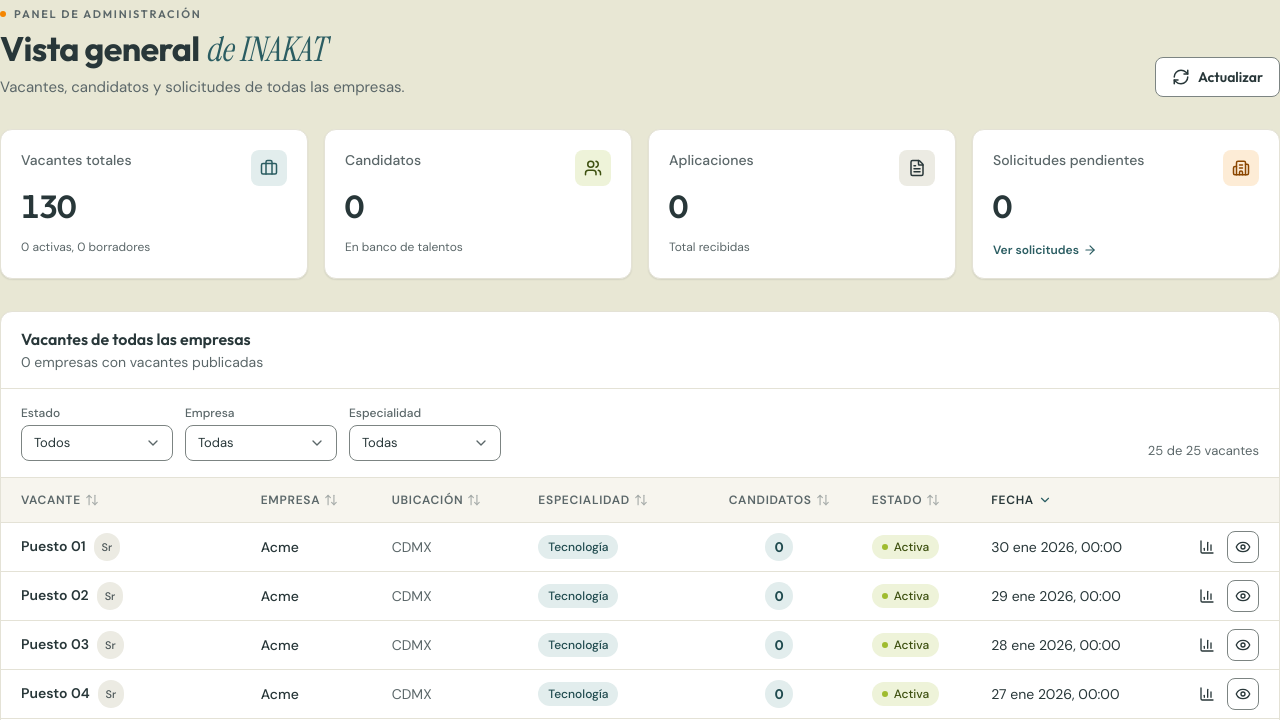
/admin (dashboard) › ADM-090: las archivadas del pipeline se pueden ver
Check: the text "Puesto 01" is shown, box [21, 537, 86, 556]
Click the button titled "Ver pipeline".
click(1207, 547)  # box [1191, 531, 1223, 563]
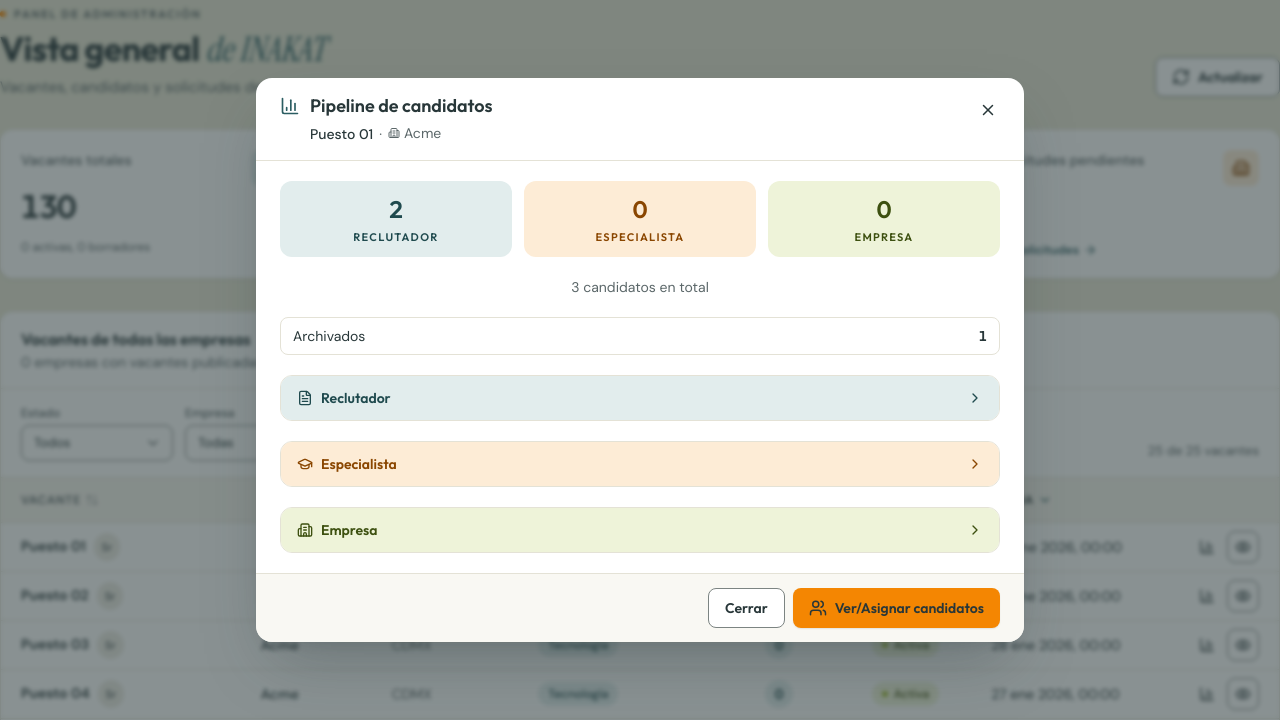
Click the button "Archivados 1".
click(329, 336)  # box [280, 317, 1000, 355]
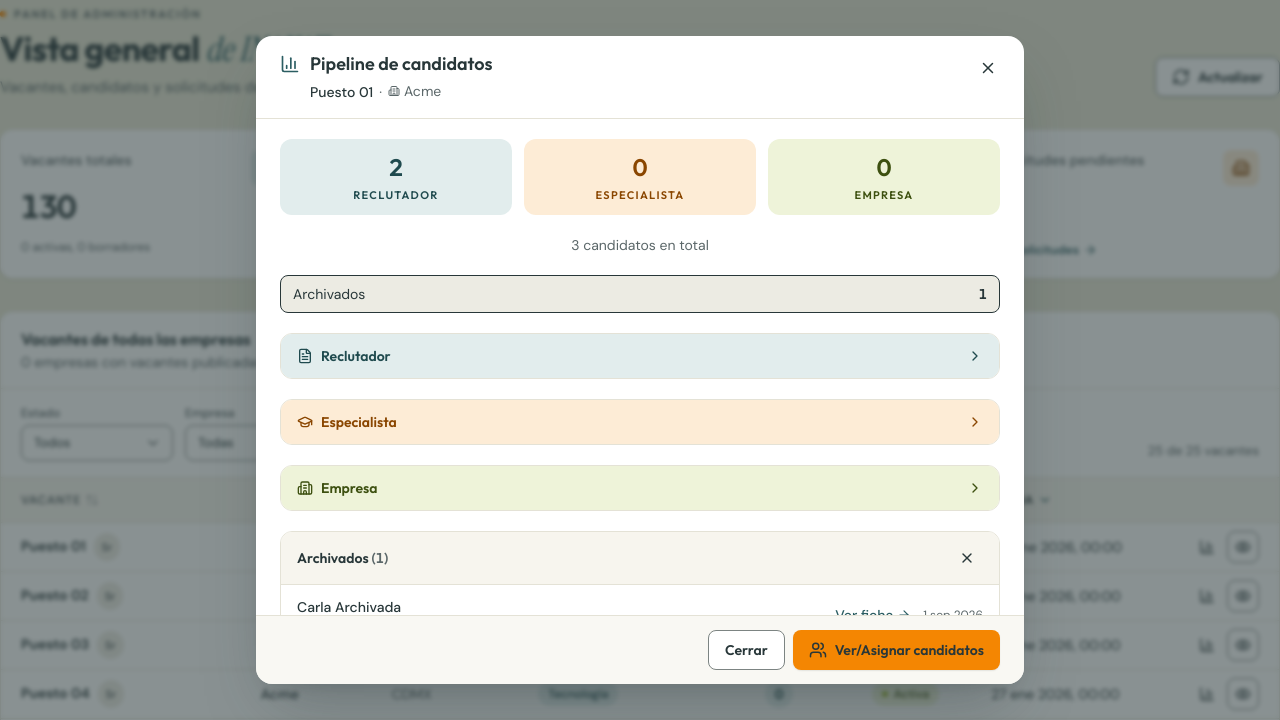
Check: the text "Carla Archivada" is shown, box [297, 597, 401, 615]
